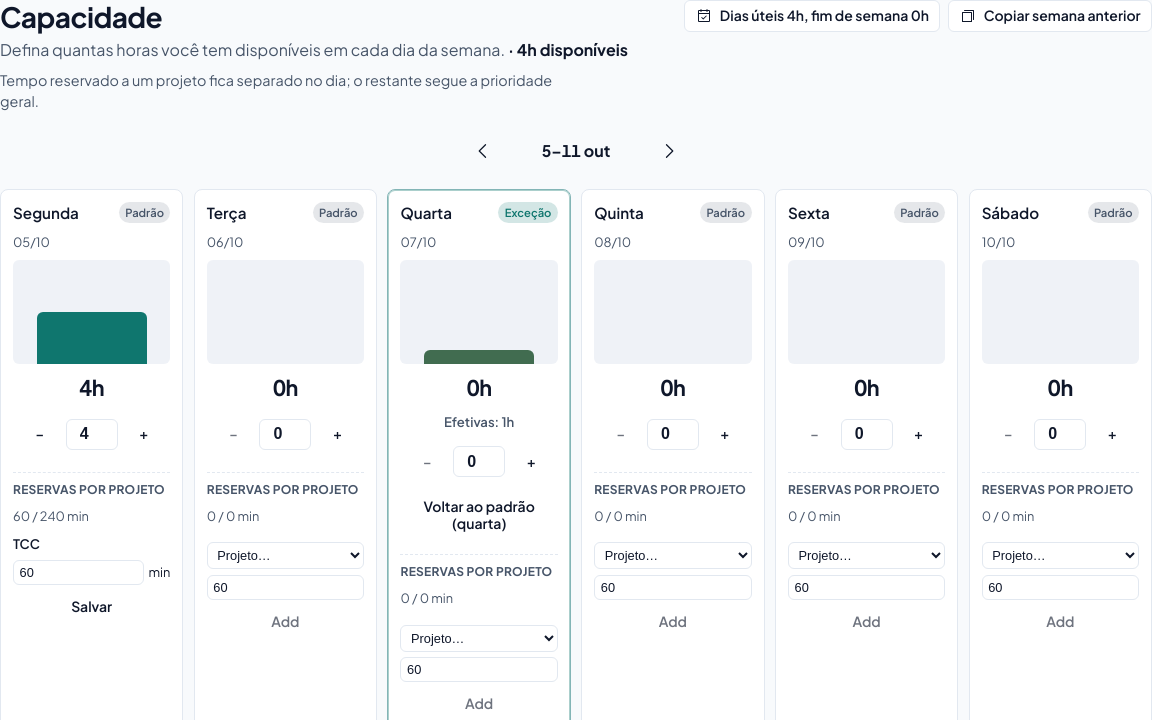
Scenario: CapacidadePage › T3: salvar semana atualiza com resposta e relê só a resolvida
This screenshot has width=1152, height=720.
Step 1. Click the button named "aumentar horas de segunda" → [144, 434], box [122, 412, 166, 456]
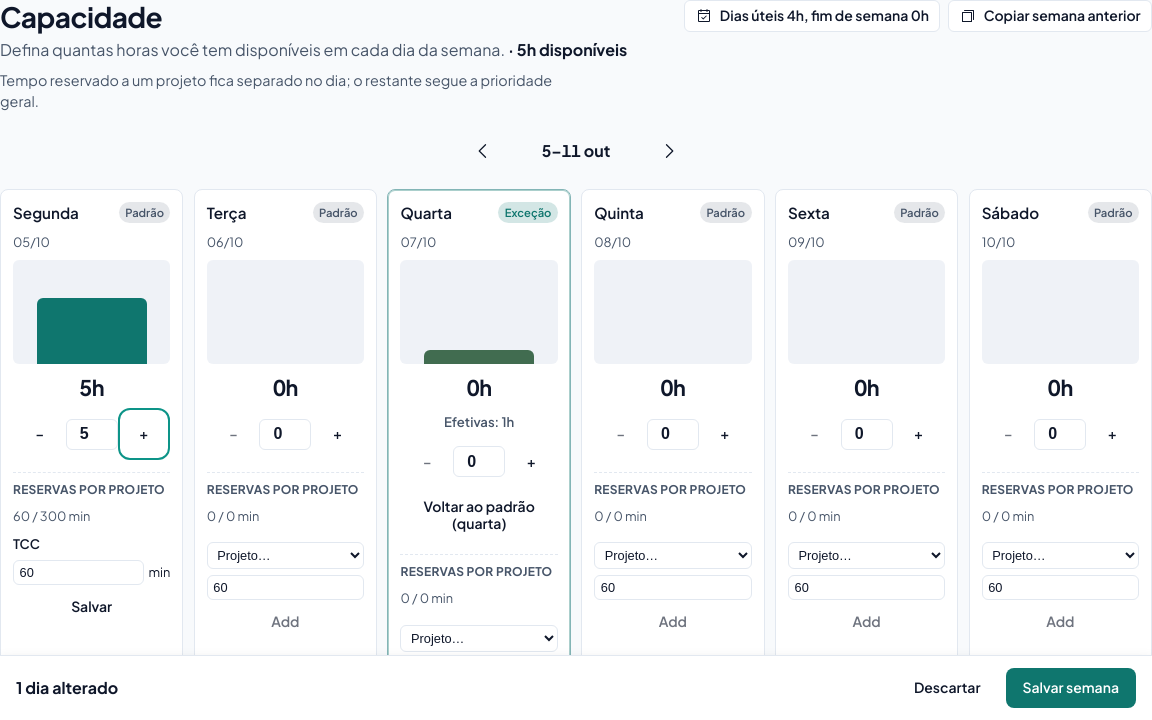
Step 2. Click the button named "aumentar horas de terça" → [337, 434], box [315, 412, 359, 456]
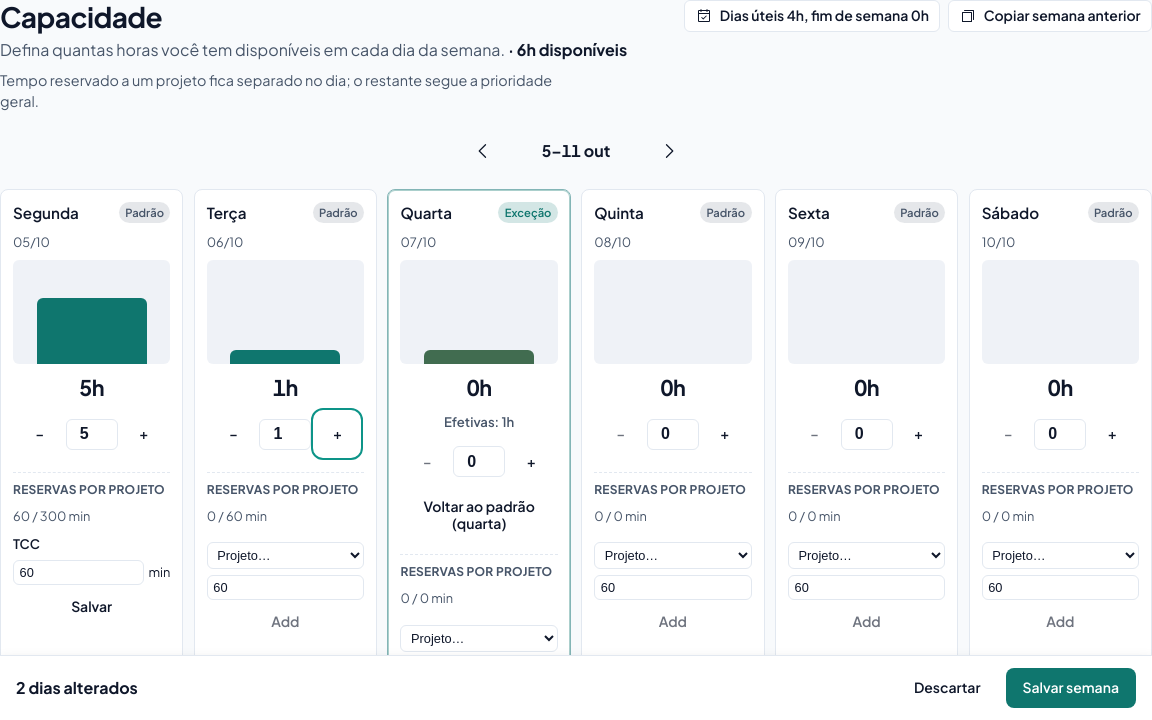
Step 3. Click the button "Salvar semana" → [1071, 688], box [1006, 668, 1136, 708]
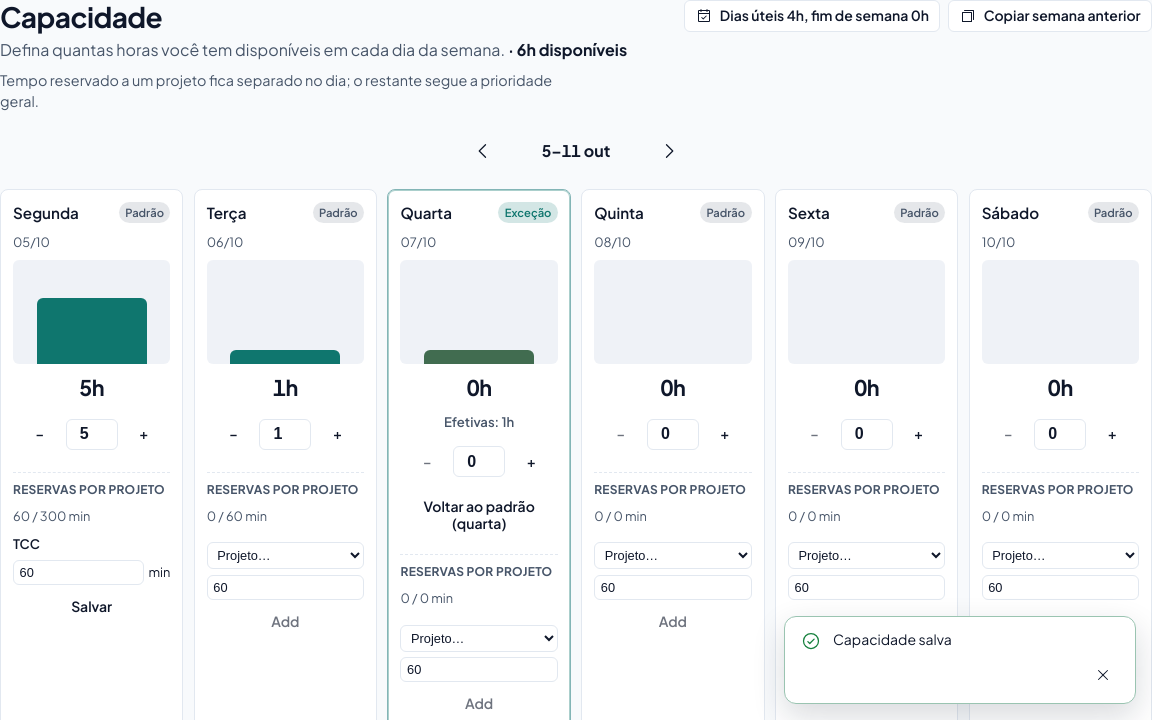
Expected: the text "dia alterado" is not shown
Now the text "Capacidade salva" is shown, box [833, 630, 952, 648]
